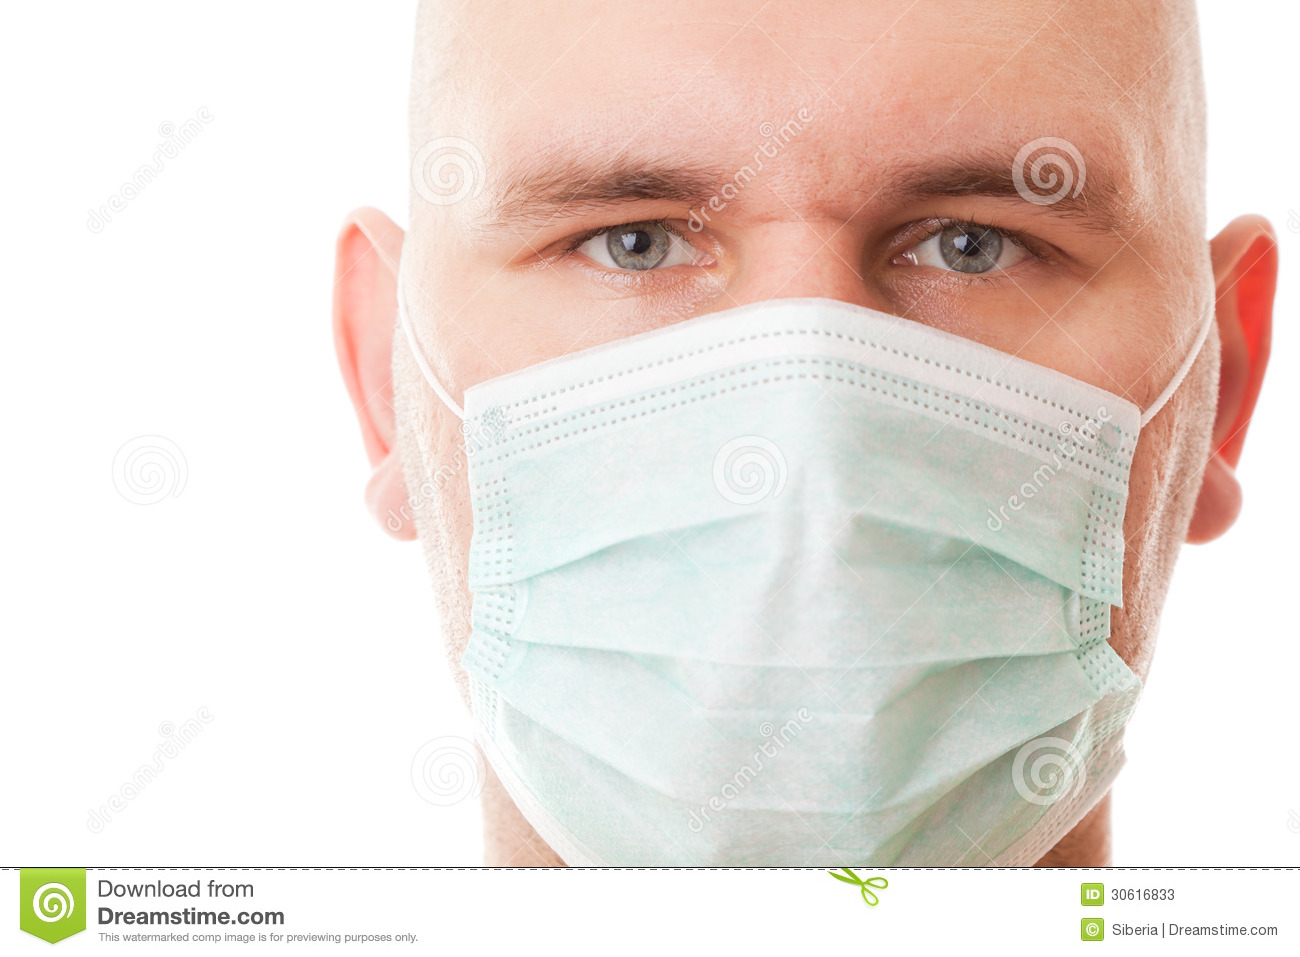mask: (459, 295, 1147, 872)
